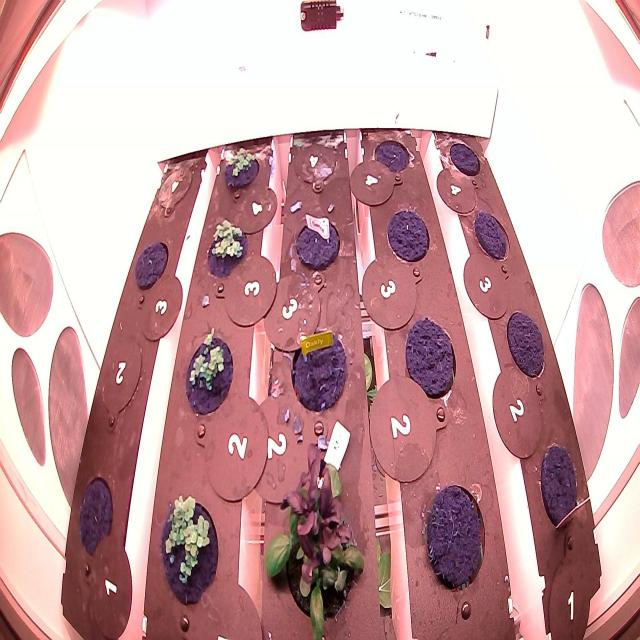empty_pod: (96, 330, 146, 430), (290, 137, 338, 193), (155, 160, 195, 222)
germination: (155, 486, 227, 607), (182, 326, 240, 426), (201, 208, 252, 286), (218, 138, 264, 198)
pod: (422, 475, 489, 598), (287, 330, 347, 417), (402, 312, 457, 406), (70, 468, 126, 560), (534, 436, 587, 533), (292, 196, 348, 286), (386, 200, 433, 277), (503, 305, 548, 381), (127, 232, 176, 294), (370, 120, 416, 186), (472, 205, 513, 264), (448, 132, 484, 183)
